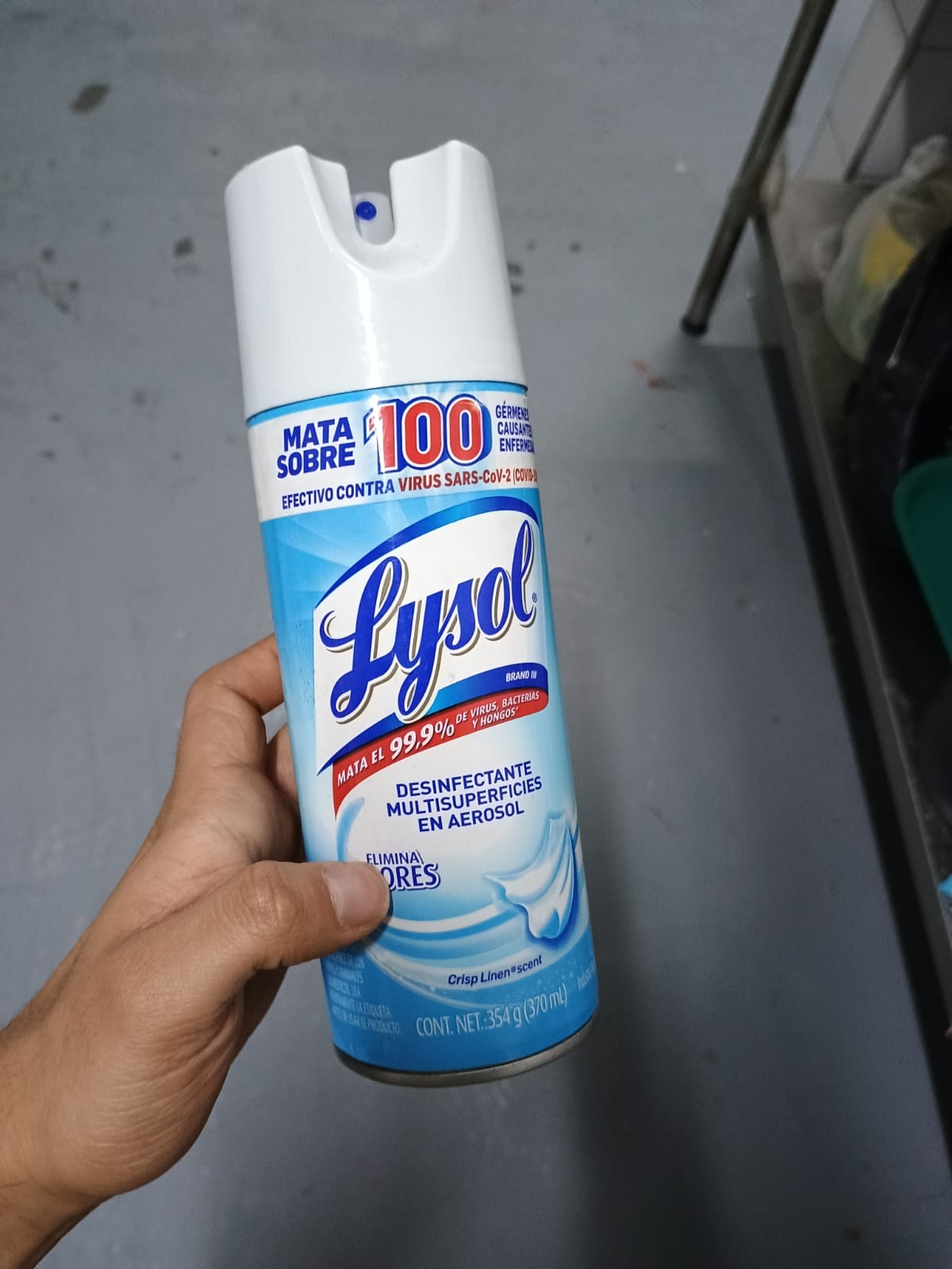Metal: (244, 384, 618, 1087)
Plastico: (221, 140, 547, 382)
